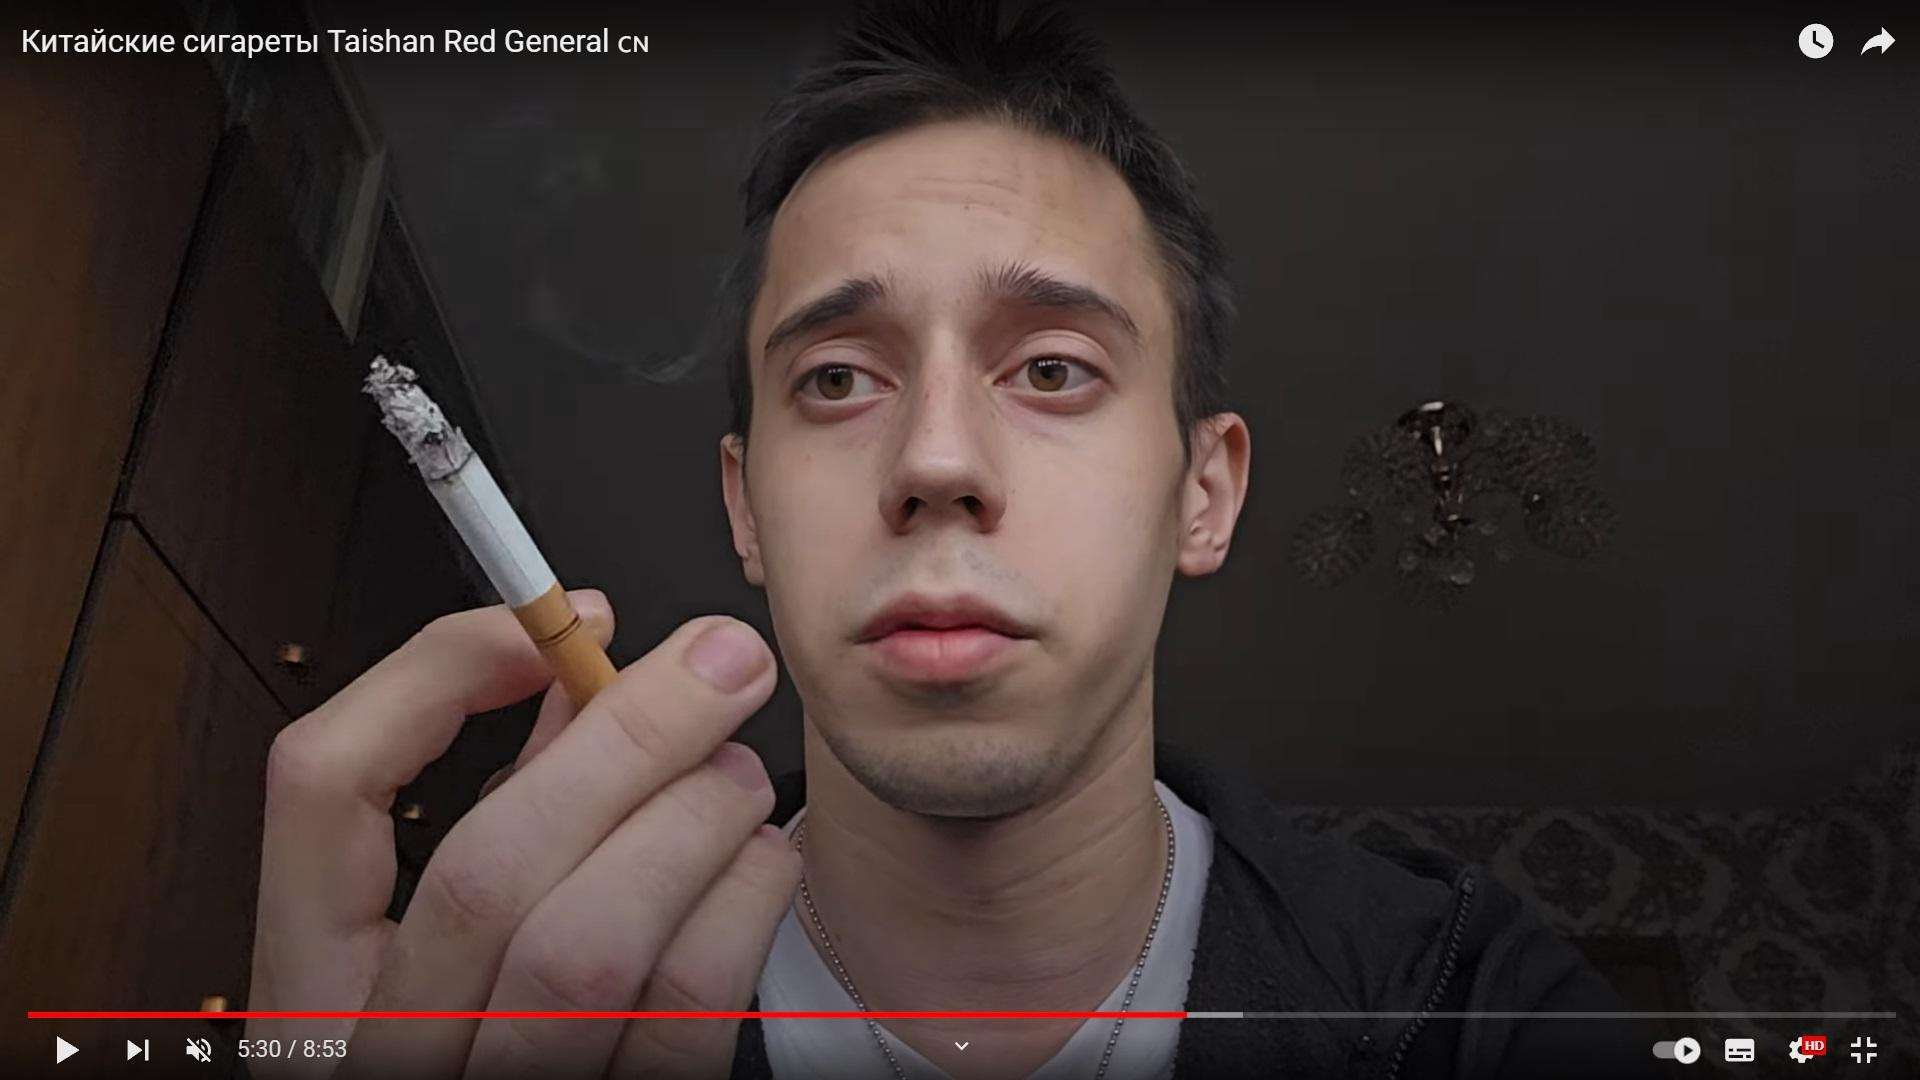cigarette: (367, 357, 618, 713)
